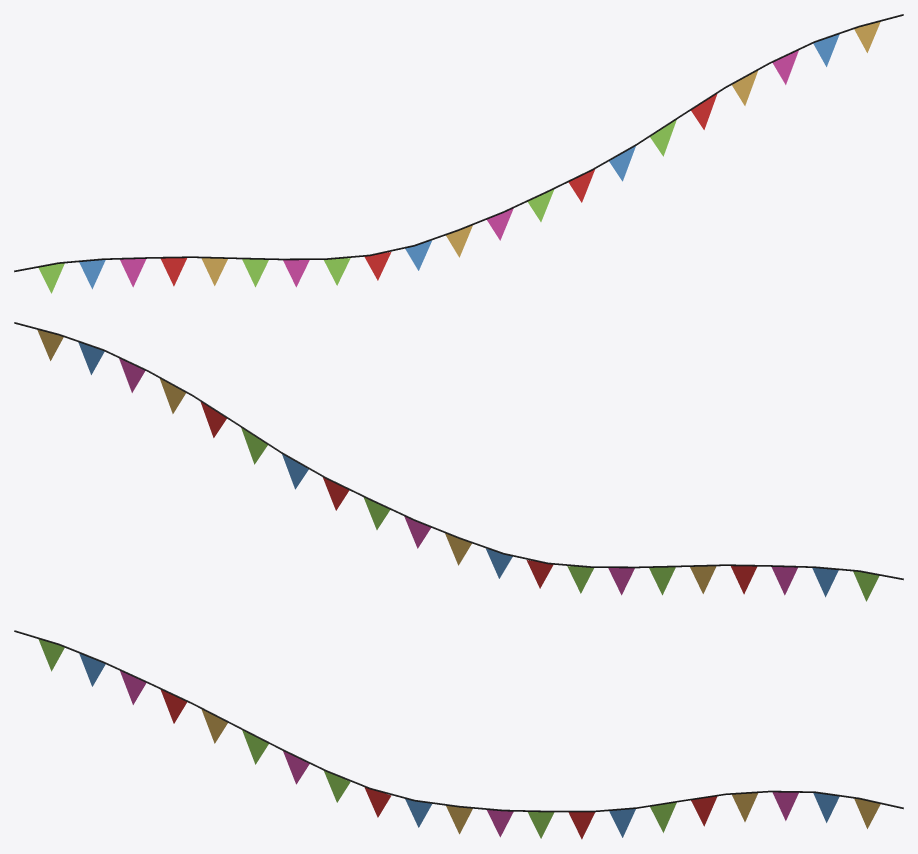
File: TriFlag01.fbx
3 renders of one model, top to bottom at view 1: azimuth 30°, elevation 25°; view 2: azimuth 150°, elevation 25°; view 3: azimuth 330°, elevation 25°, orthographic.
Parts seen in each view (by area): view 1: TriFlag01; view 2: TriFlag01; view 3: TriFlag01.
Boxes of the visible parts, <box> form: TriFlag01: <box>14,14,903,293</box>; TriFlag01: <box>14,322,903,601</box>; TriFlag01: <box>14,630,903,839</box>.
Bounding box in the file's own units: 39.09 × 5.82 × 0.0672.
1 material, 1 textured.
